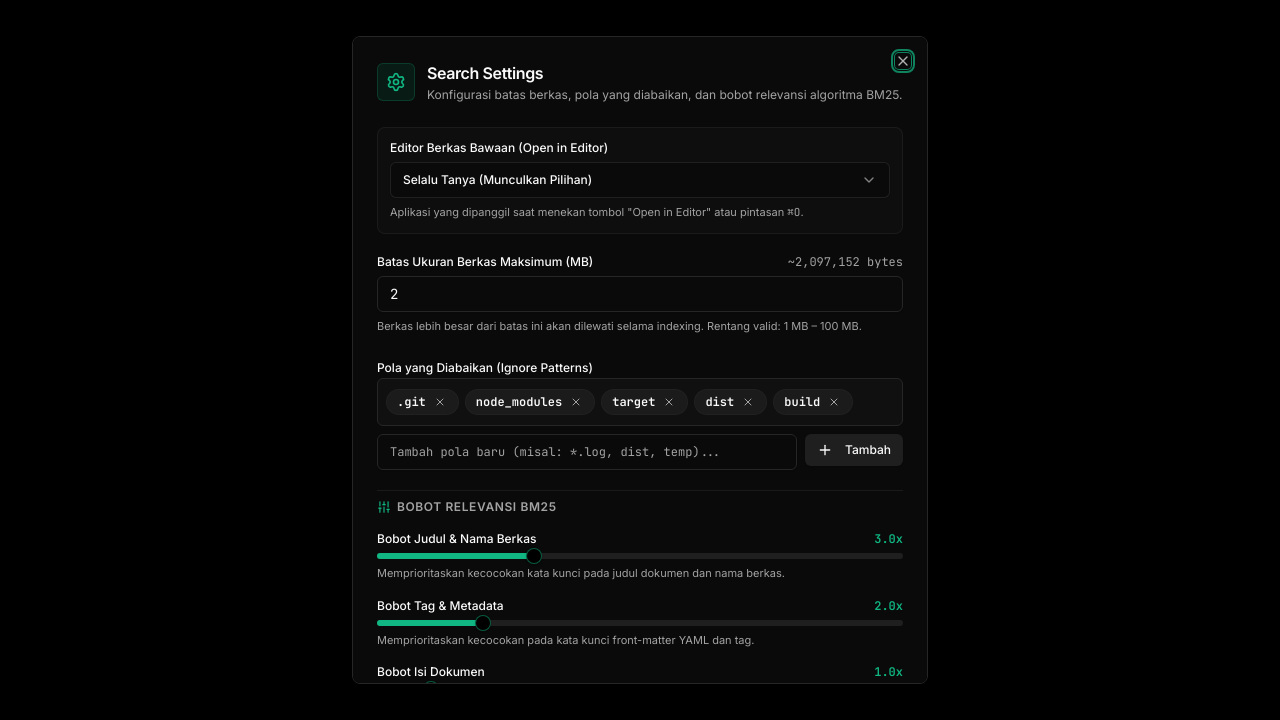
Scenario: SettingsModal › adds a new ignore pattern and rejects duplicate
Expected: the text "node_modules" is shown, [476, 394, 562, 410]
Note: Try adding duplicate
Type "node_modules" into the field named "Input pola baru" at point(587, 452), box [377, 434, 797, 470]
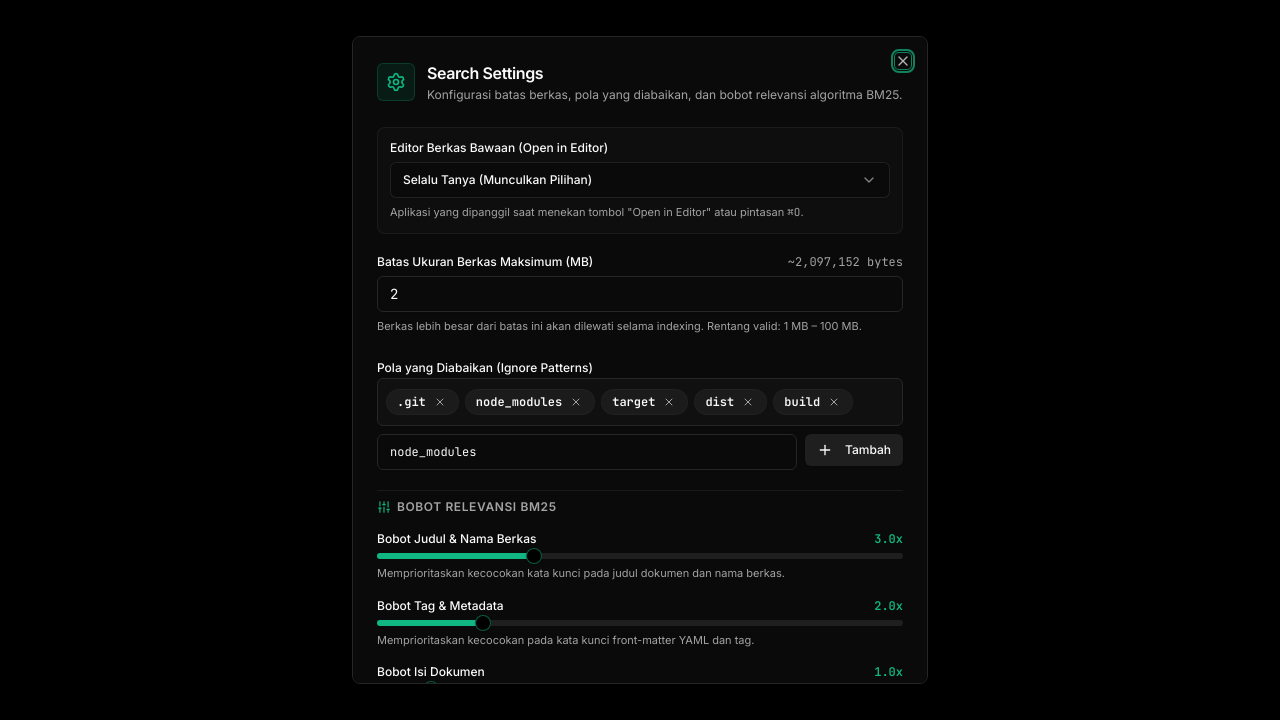
Click the button "Tambah" at point(854, 450), box [805, 434, 903, 466]
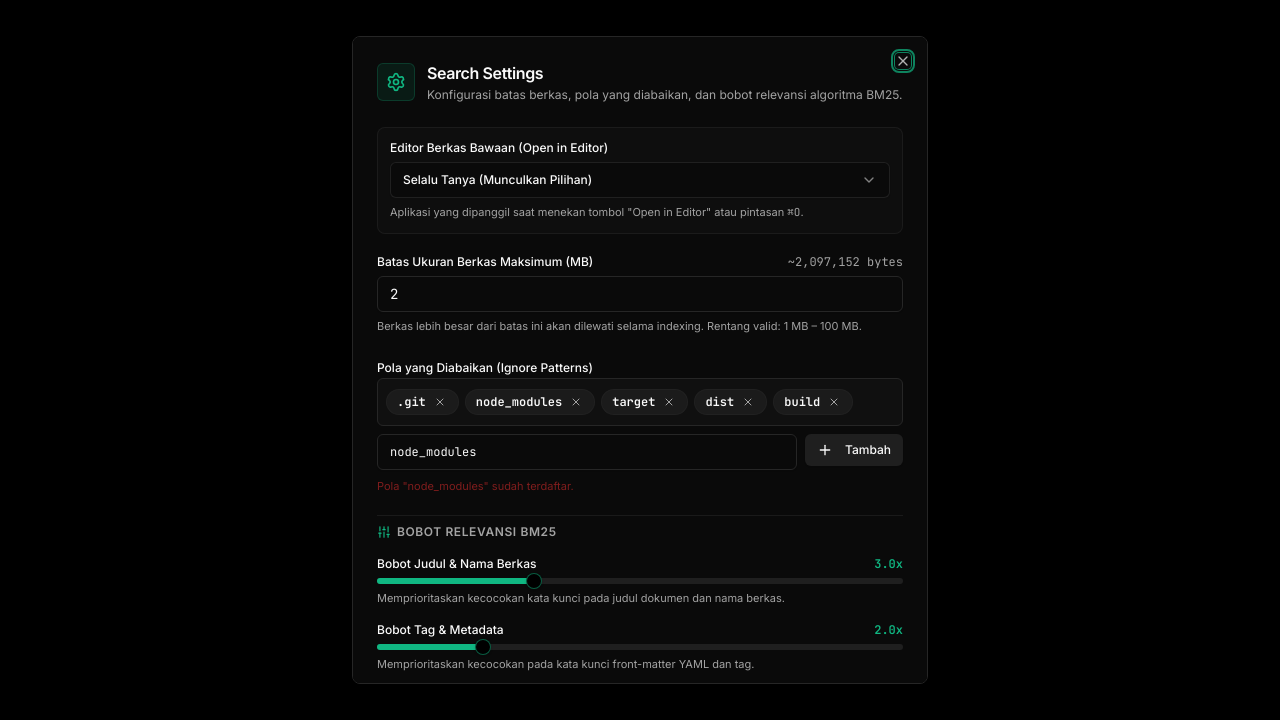
Expected: the text "Pola \"node_modules\" sudah terdaftar." is shown, [377, 479, 574, 493]
Note: Add unique pattern via Enter key
Replace the text in the field named "Input pola baru" with "*.log" at point(587, 452), box [377, 434, 797, 470]
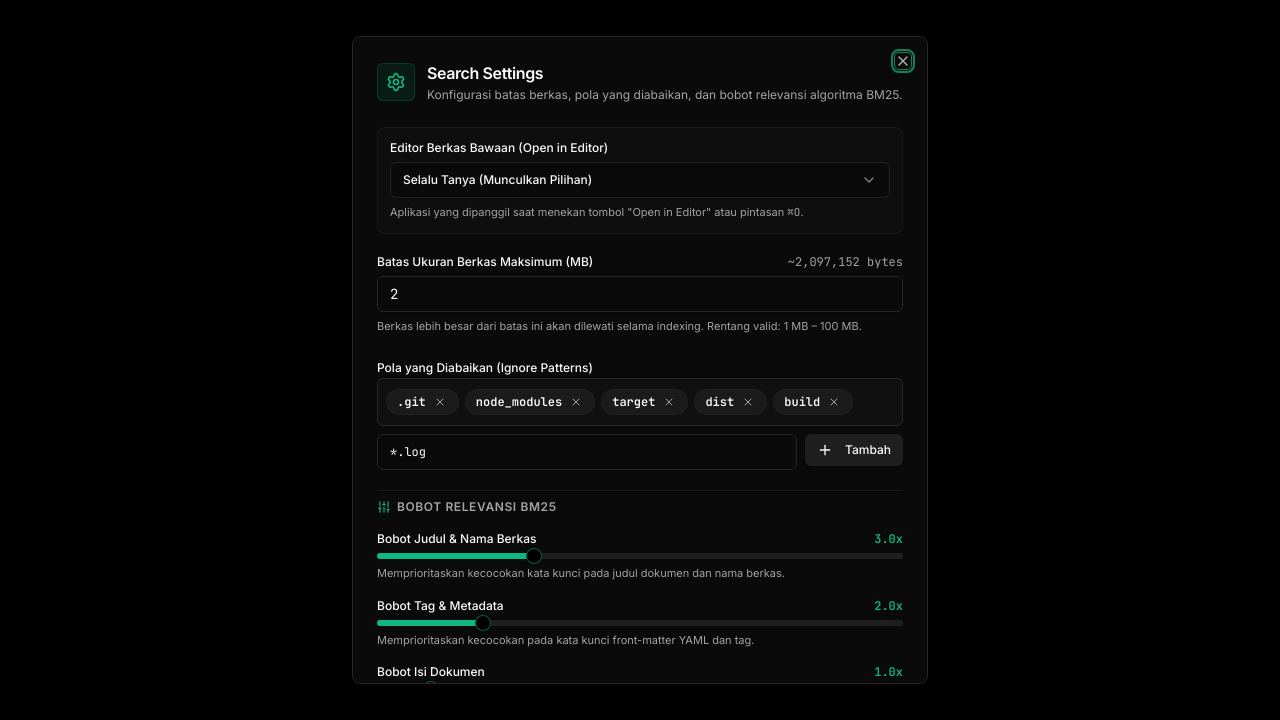
Press Enter in the field named "Input pola baru", box [377, 434, 797, 470]
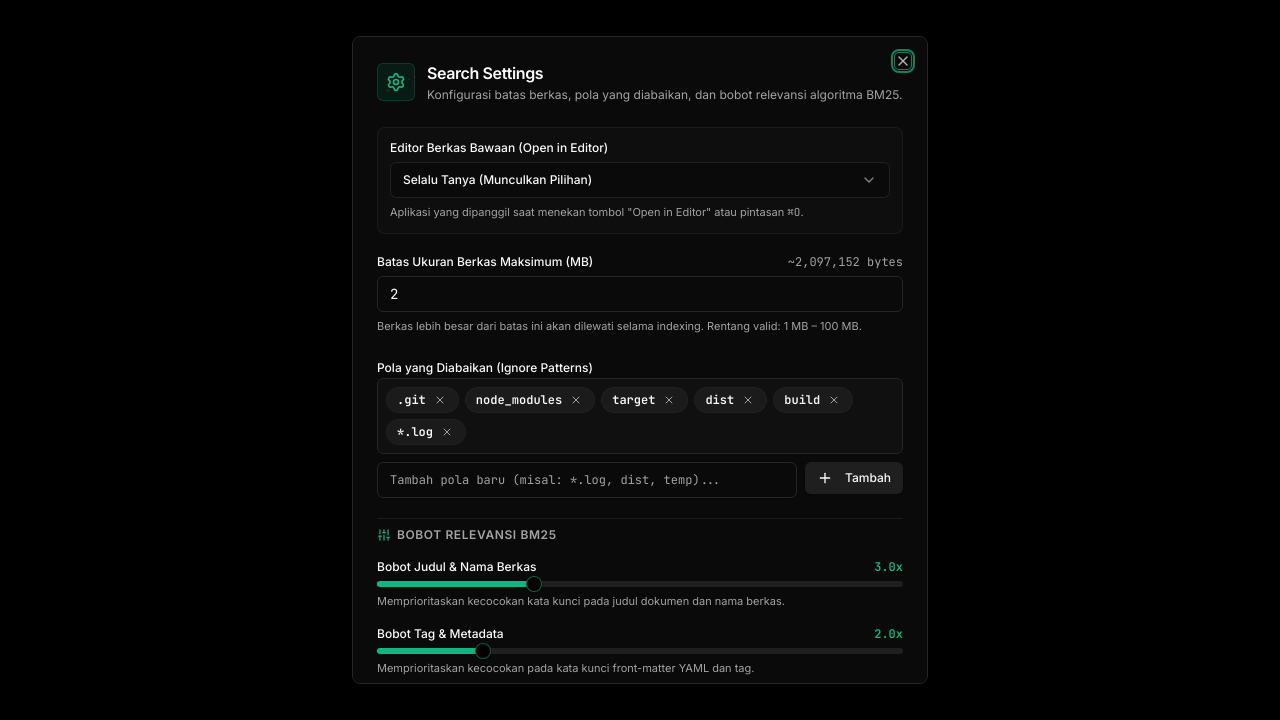
Expected: the text "*.log" is shown, [397, 424, 433, 440]
